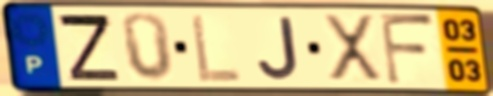0: (120, 11, 176, 85)
F: (377, 11, 439, 88)
J: (256, 15, 303, 83)
L: (188, 12, 244, 85)
X: (320, 12, 385, 85)
Z: (53, 12, 123, 83)
